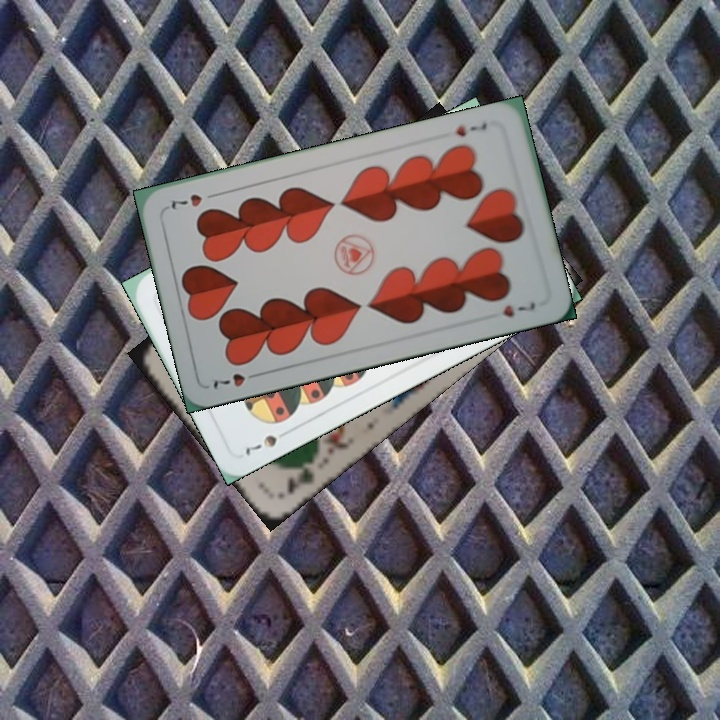GK: (282, 464, 317, 498)
H7: (209, 368, 265, 392), (452, 118, 490, 139)
S7: (241, 425, 294, 458)
